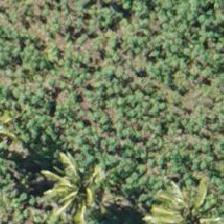coconut_tree: (47, 138, 137, 223)
